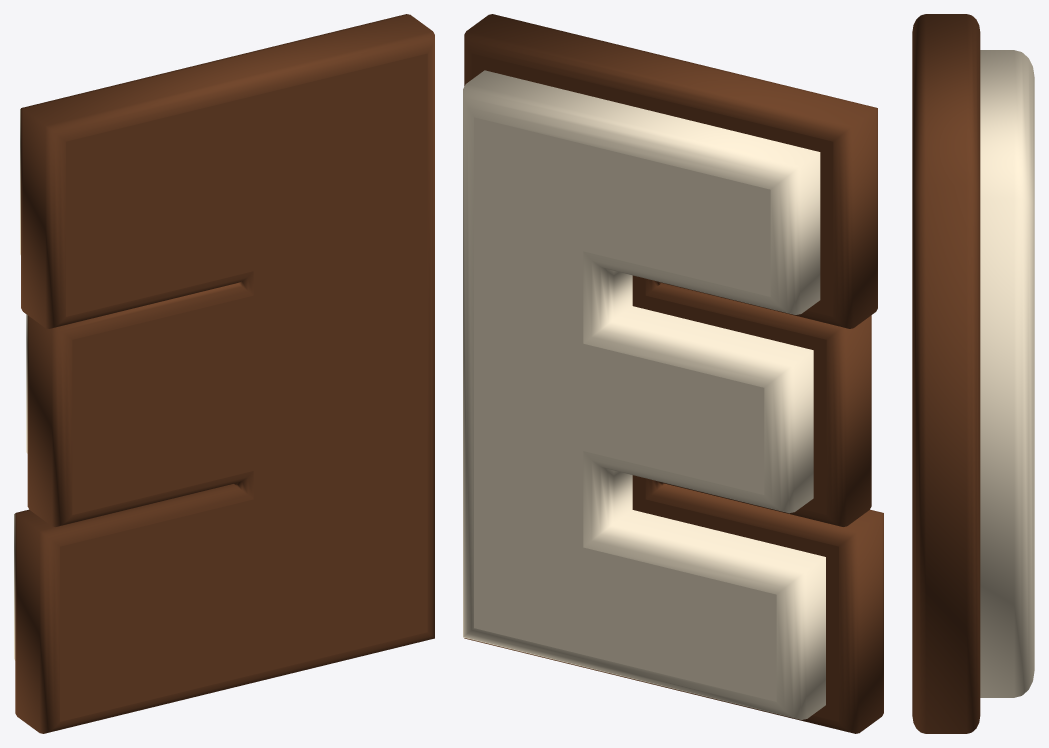
The model's file is Letter_E.fbx.
3 views of the same model, side by side, from view 1: azimuth 30°, elevation 25°; view 2: azimuth 150°, elevation 25°; view 3: azimuth 270°, elevation 25° (orthographic). The views are drawn at different scales.
Visible parts, largest first — view 1: Letter_E; view 2: Letter_E; view 3: Letter_E.
Part boxes in pixels (bbox=[...]): Letter_E: bbox=[14, 14, 434, 733]; Letter_E: bbox=[463, 14, 883, 733]; Letter_E: bbox=[912, 14, 1034, 733].
Bounding box in the file's own units: 0.606 × 0.892 × 0.18.
Materials: 1 (1 with a texture image).
